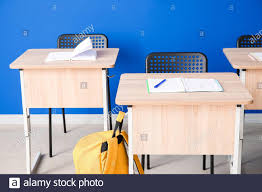desk: (8, 49, 120, 173), (115, 71, 252, 171)
